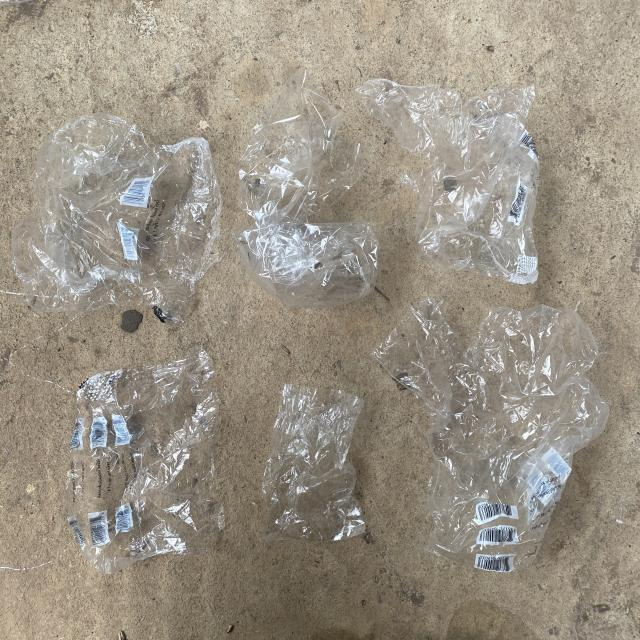Single-layer Plastic: (374, 299, 609, 572), (11, 114, 221, 324), (358, 79, 539, 284), (66, 349, 224, 574), (232, 69, 378, 308), (262, 384, 365, 541)
